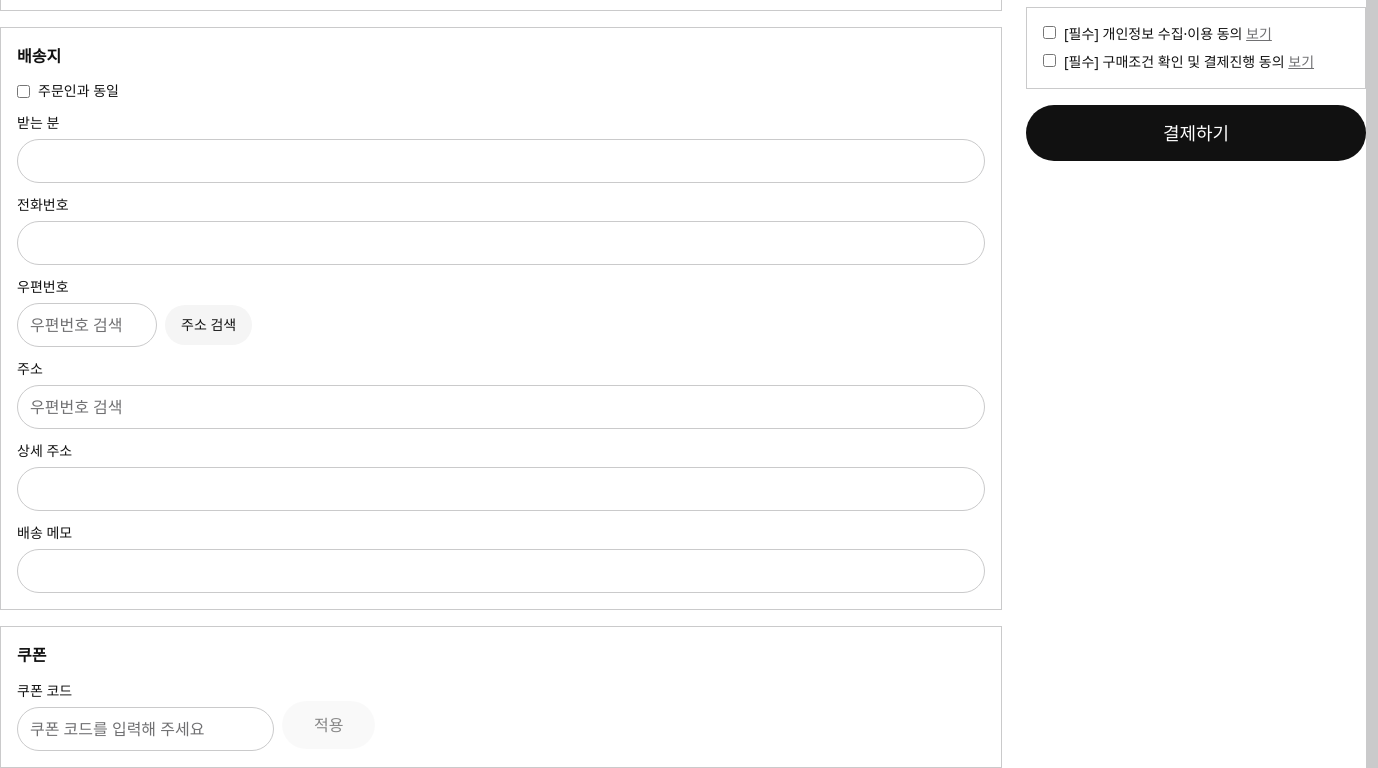
it: <CheckoutClient> 쿠폰 (FS-X-04, ADR-026) › errorCode COUPON_EXHAUSTED → 한국어 안내
The image size is (1378, 768).
(page scrolled)
In the field with test id "coupon-input": (146, 729) [17, 707, 274, 751], type "BADCODE"
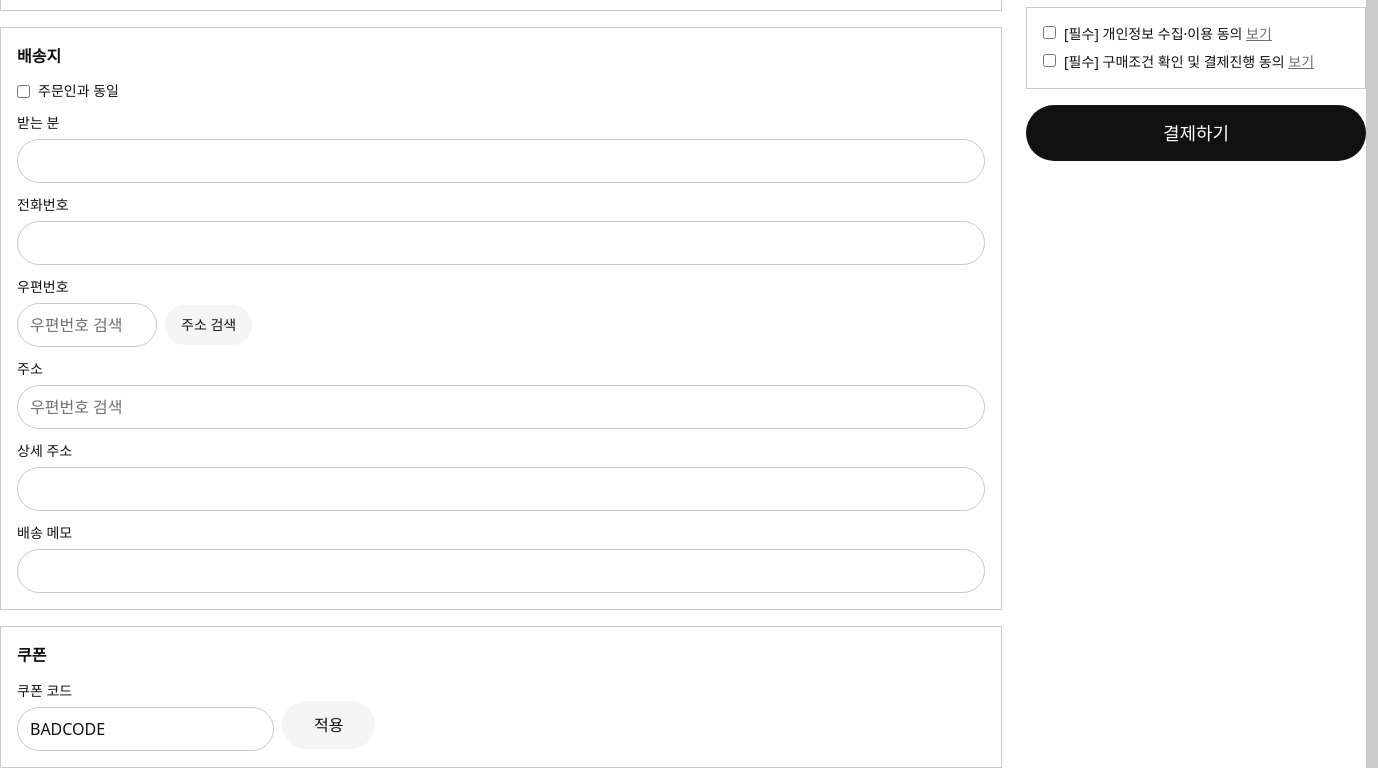
Click the button with test id "coupon-apply": (329, 725) [282, 701, 376, 749]
(page scrolled)
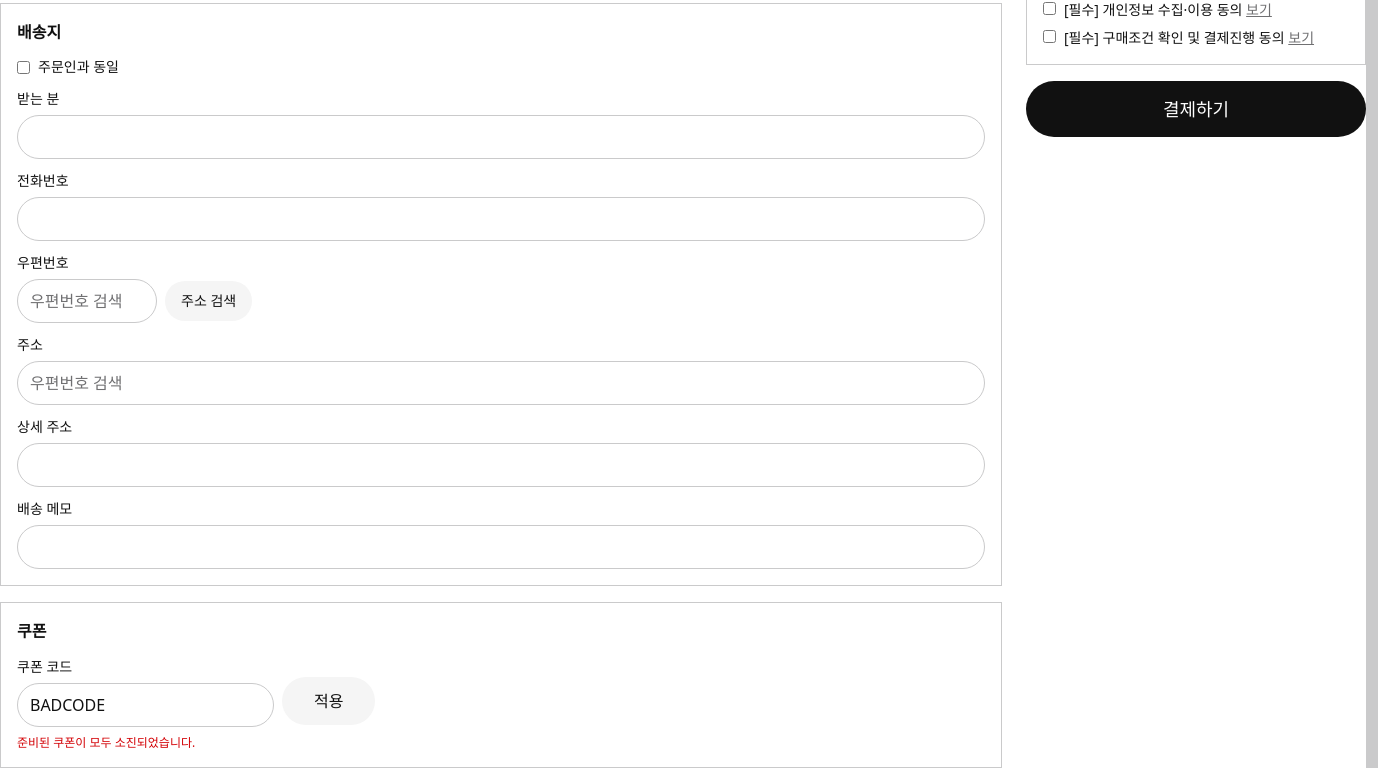
expect the message with test id "coupon-error" reads "준비된 쿠폰이 모두 소진되었습니다.": met, box [17, 734, 195, 751]
